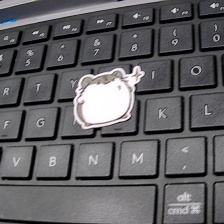mouse: (71, 63, 147, 127)
